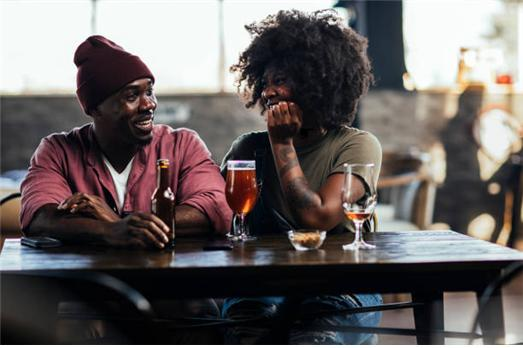alcohol: (341, 163, 378, 251), (224, 159, 256, 244), (151, 160, 177, 251)
